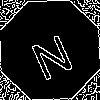N: (25, 25, 77, 82)
